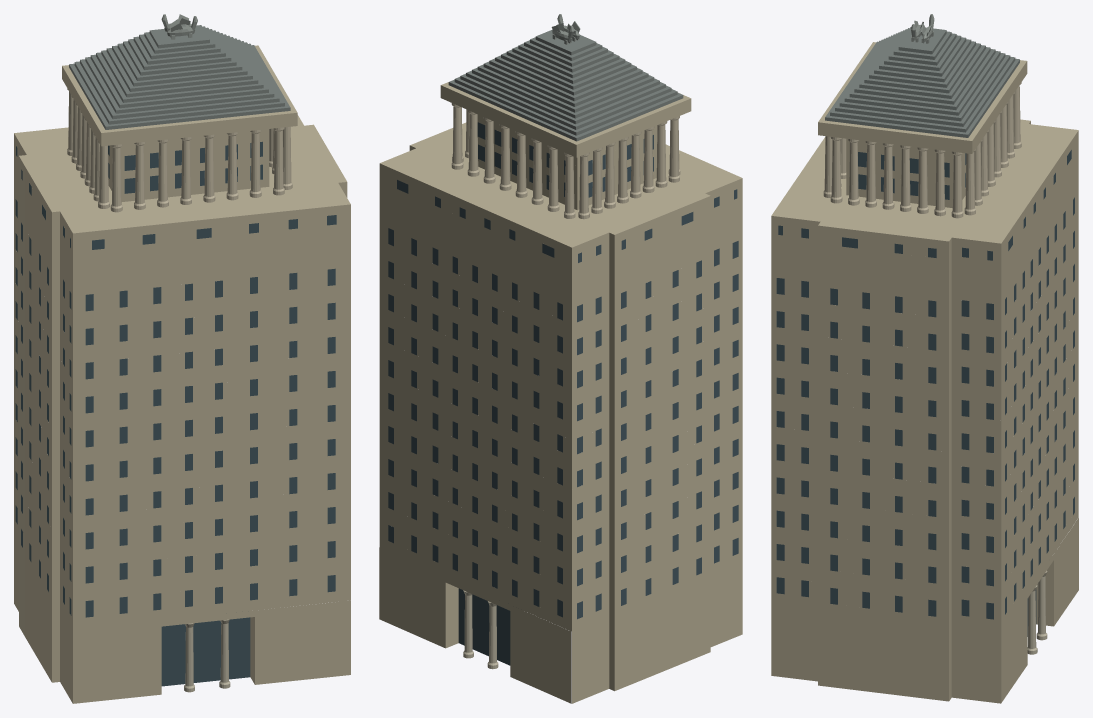
File: civil-courts-building-st-louis-near.glb
3 views of the same model, side by side, from view 1: azimuth 30°, elevation 25°; view 2: azimuth 150°, elevation 25°; view 3: azimuth 270°, elevation 25° (orthographic). The views are drawn at different scales.
Visible parts, largest first — view 1: civil-courts-building-st-louis-0-stone, civil-courts-building-st-louis-0-glass, civil-courts-building-st-louis-0-roof, civil-courts-building-st-louis-0-column, civil-courts-building-st-louis-0-baseColumn, civil-courts-building-st-louis-0-metal; view 2: civil-courts-building-st-louis-0-stone, civil-courts-building-st-louis-0-glass, civil-courts-building-st-louis-0-roof, civil-courts-building-st-louis-0-column, civil-courts-building-st-louis-0-baseColumn; view 3: civil-courts-building-st-louis-0-stone, civil-courts-building-st-louis-0-glass, civil-courts-building-st-louis-0-roof, civil-courts-building-st-louis-0-column, civil-courts-building-st-louis-0-baseColumn.
Part boxes in pixels (x1=…): civil-courts-building-st-louis-0-stone: x1=14, y1=45, x2=350, y2=703; civil-courts-building-st-louis-0-glass: x1=15, y1=141, x2=336, y2=686; civil-courts-building-st-louis-0-roof: x1=69, y1=25, x2=290, y2=129; civil-courts-building-st-louis-0-column: x1=67, y1=88, x2=292, y2=212; civil-courts-building-st-louis-0-baseColumn: x1=184, y1=619, x2=230, y2=692; civil-courts-building-st-louis-0-metal: x1=161, y1=14, x2=197, y2=39; civil-courts-building-st-louis-0-stone: x1=379, y1=82, x2=742, y2=703; civil-courts-building-st-louis-0-glass: x1=388, y1=122, x2=738, y2=665; civil-courts-building-st-louis-0-roof: x1=448, y1=29, x2=683, y2=141; civil-courts-building-st-louis-0-column: x1=451, y1=103, x2=680, y2=219; civil-courts-building-st-louis-0-baseColumn: x1=463, y1=590, x2=498, y2=669; civil-courts-building-st-louis-0-stone: x1=771, y1=42, x2=1078, y2=703; civil-courts-building-st-louis-0-glass: x1=776, y1=150, x2=1074, y2=636; civil-courts-building-st-louis-0-roof: x1=825, y1=27, x2=1019, y2=137; civil-courts-building-st-louis-0-column: x1=823, y1=82, x2=1021, y2=218; civil-courts-building-st-louis-0-baseColumn: x1=1027, y1=570, x2=1047, y2=654.
Size of the model in its own units: 58.51 by 118 by 53.65.
